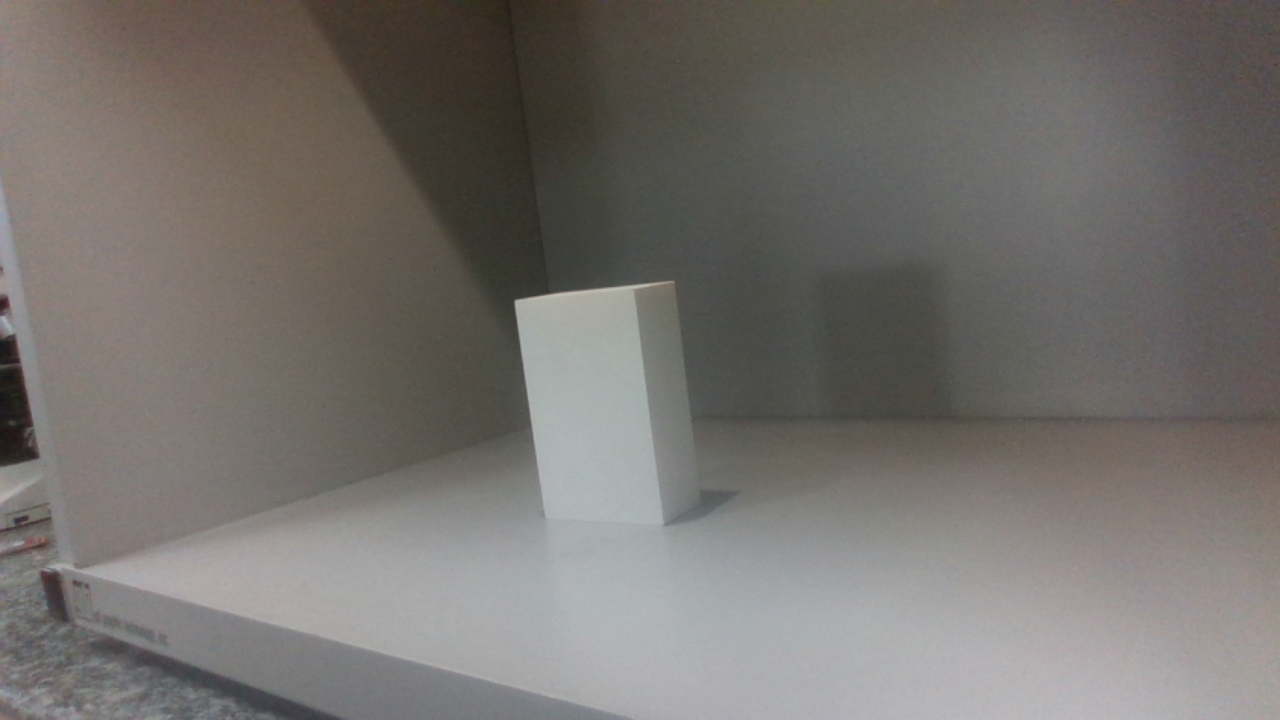Retangulo: (516, 283, 700, 525)
